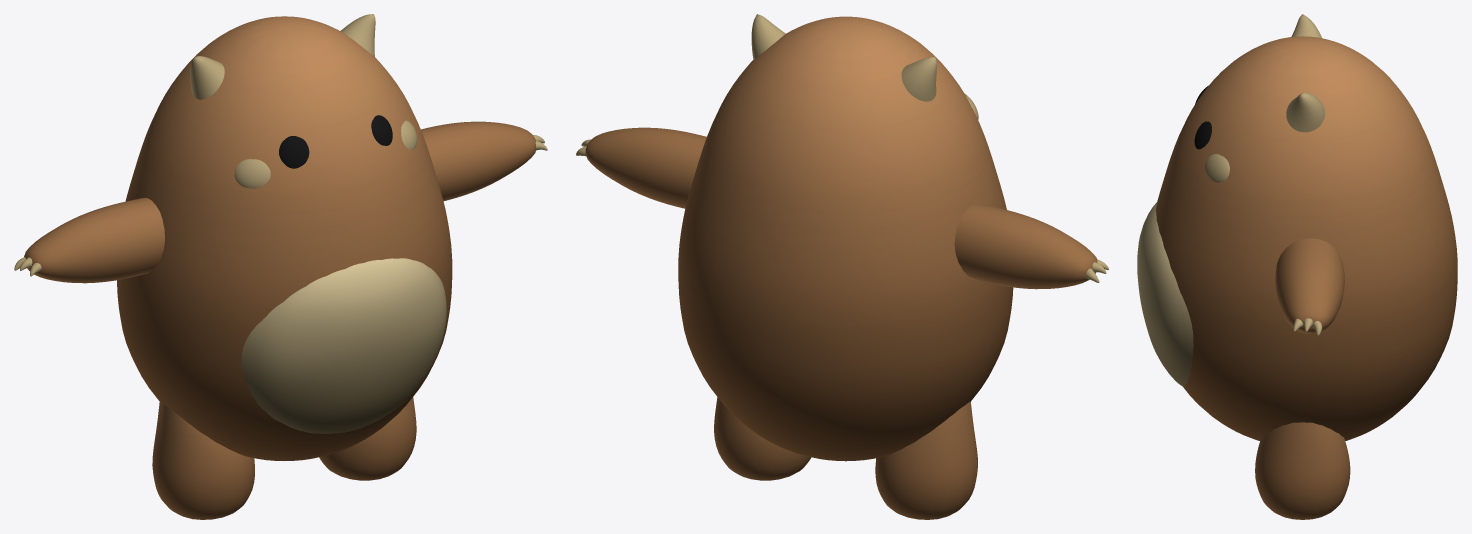
The model's file is ch_public_06.fbx.
3 renders of one model, left to right at view 1: azimuth 30°, elevation 25°; view 2: azimuth 150°, elevation 25°; view 3: azimuth 270°, elevation 25°, orthographic. The views are drawn at different scales.
Parts seen in each view (by area): view 1: ch_3_body, ch_3_belly, ch_3_arm_right, ch_3_leg_right, ch_3_arm_left, ch_3_leg_left, ch_3_horns, ch_3_eyes, ch_3_cheeks; view 2: ch_3_body, ch_3_arm_right, ch_3_leg_right, ch_3_arm_left, ch_3_leg_left, ch_3_horns; view 3: ch_3_body, ch_3_leg_left, ch_3_belly, ch_3_arm_left, ch_3_horns, ch_3_cheeks, ch_3_eyes.
Boxes of the visible parts, x1,y1,x2,y2 form: ch_3_body: (117,16,452,460); ch_3_belly: (241,258,446,433); ch_3_arm_right: (14,198,164,283); ch_3_leg_right: (152,401,254,519); ch_3_arm_left: (421,121,547,201); ch_3_leg_left: (319,397,416,480); ch_3_horns: (190,14,375,99); ch_3_eyes: (279,115,392,168); ch_3_cheeks: (234,120,417,188); ch_3_body: (678,16,1013,461); ch_3_arm_right: (954,204,1108,289); ch_3_leg_right: (875,401,977,519); ch_3_arm_left: (576,127,706,208); ch_3_leg_left: (714,397,811,480); ch_3_horns: (751,14,936,101); ch_3_body: (1155,36,1457,440); ch_3_leg_left: (1255,422,1350,519); ch_3_belly: (1137,202,1193,386); ch_3_arm_left: (1275,238,1344,335); ch_3_horns: (1286,14,1324,132); ch_3_cheeks: (1205,154,1229,182); ch_3_eyes: (1194,85,1211,149).
Size of the model in its own units: 15.89 by 13.48 by 9.1.
Materials: 1 (1 with a texture image).
